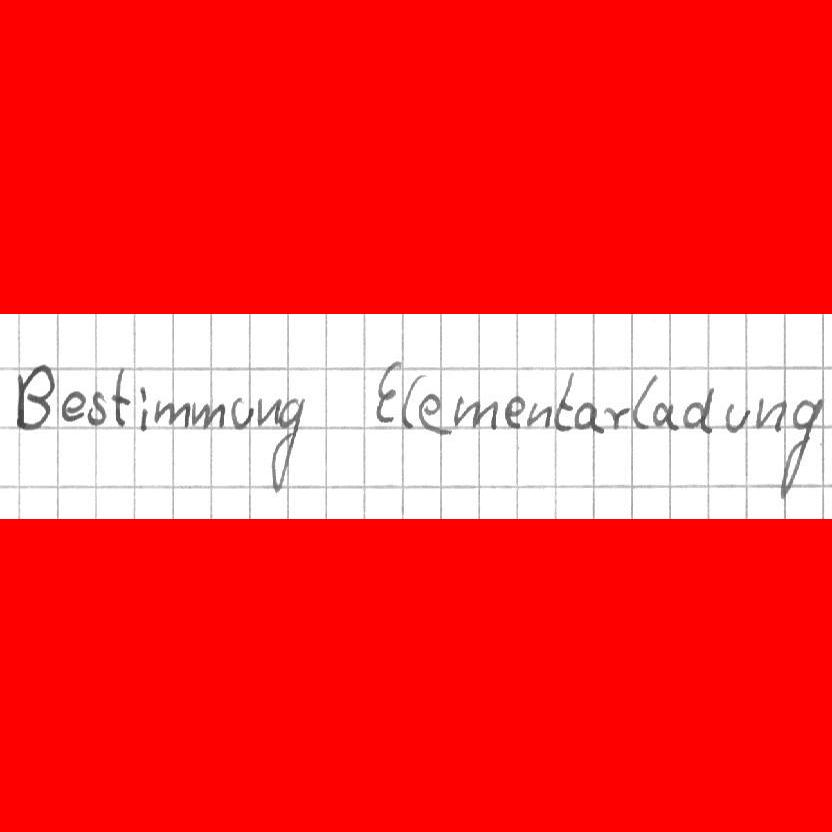Char: (776, 396, 824, 499), (267, 394, 306, 493), (14, 363, 56, 432), (372, 357, 403, 425), (451, 394, 499, 433), (415, 390, 453, 435), (682, 386, 716, 436), (630, 371, 657, 432), (401, 368, 426, 432), (553, 369, 577, 433), (754, 395, 786, 436), (110, 366, 131, 428), (571, 398, 607, 434), (152, 397, 191, 430), (191, 399, 226, 430), (721, 400, 752, 434), (60, 388, 88, 423), (602, 401, 632, 433), (650, 399, 679, 432), (229, 395, 255, 430), (87, 389, 109, 428), (257, 395, 283, 428), (503, 393, 525, 431), (526, 399, 551, 428), (137, 382, 149, 430)
